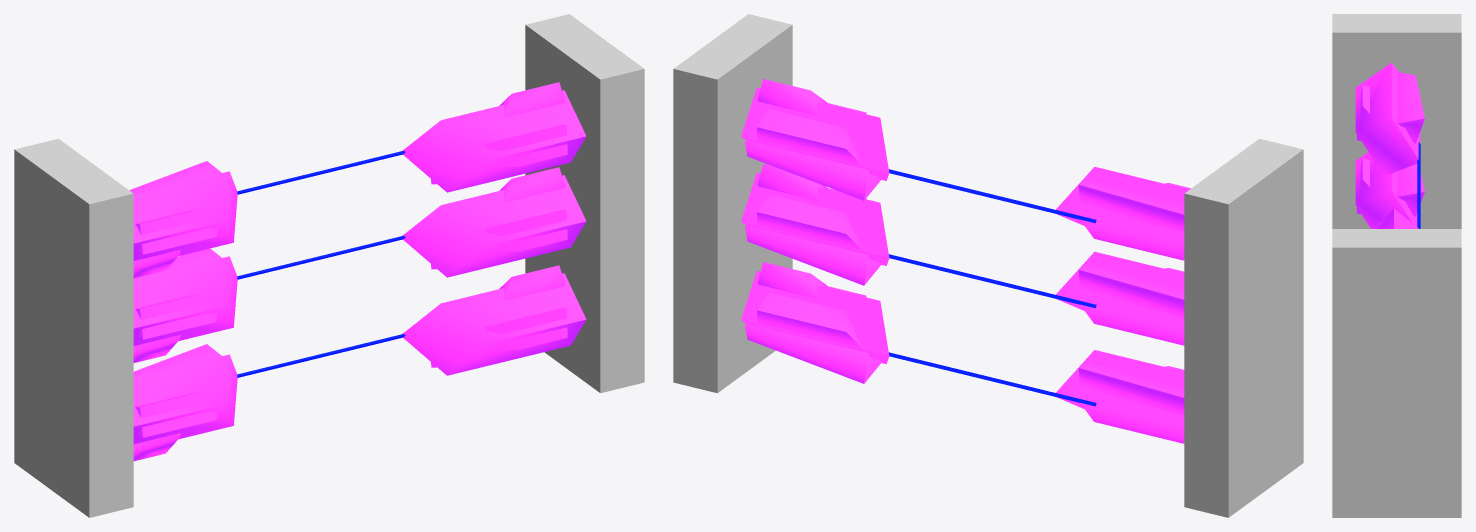
File: Crystal Laser Grid.fbx
3 views of the same model, side by side, from view 1: azimuth 30°, elevation 25°; view 2: azimuth 150°, elevation 25°; view 3: azimuth 270°, elevation 25° (orthographic). The views are drawn at different scales.
Parts seen in each view (by area): view 1: wall_reference_2, wall_reference, Crystal_2_2, Crystal_2, Crystal_2_3, Crystal_1_3, Crystal_1_2, Crystal_1, Cube_3_5, Cube_3_3, Cube_3, Cube_3_4 (+13 smaller); view 2: wall_reference_2, wall_reference, Crystal_2_2, Crystal_2_3, Crystal_2, Cube_4_5, Cube_4_3, Cube_4, Cube_2_3, Cube_2_7, Cube_2_5, Cube_4_2 (+14 smaller); view 3: wall_reference, wall_reference_2, Crystal_1_2, Crystal_1, Cube_4_3, Cube_4, Crystal_2_2, Cube_1_3, Cube_3_3, Cube_3.
Part boxes in pixels (x1=…): wall_reference_2: x1=14, y1=138, x2=133, y2=517; wall_reference: x1=525, y1=14, x2=644, y2=393; Crystal_2_2: x1=402, y1=90, x2=586, y2=192; Crystal_2: x1=402, y1=175, x2=586, y2=277; Crystal_2_3: x1=403, y1=273, x2=586, y2=375; Crystal_1_3: x1=133, y1=354, x2=237, y2=444; Crystal_1_2: x1=133, y1=171, x2=237, y2=260; Crystal_1: x1=133, y1=256, x2=237, y2=345; Cube_3_5: x1=135, y1=391, x2=217, y2=437; Cube_3_3: x1=135, y1=208, x2=217, y2=254; Cube_3: x1=135, y1=293, x2=217, y2=339; Cube_3_4: x1=484, y1=125, x2=567, y2=166; wall_reference_2: x1=1184, y1=138, x2=1303, y2=517; wall_reference: x1=673, y1=14, x2=792, y2=393; Crystal_2_2: x1=741, y1=87, x2=889, y2=180; Crystal_2_3: x1=741, y1=271, x2=889, y2=364; Crystal_2: x1=741, y1=172, x2=889, y2=265; Cube_4_5: x1=1078, y1=359, x2=1184, y2=415; Cube_4_3: x1=1078, y1=176, x2=1184, y2=232; Cube_4: x1=1078, y1=261, x2=1184, y2=317; Cube_2_3: x1=757, y1=194, x2=862, y2=250; Cube_2_7: x1=757, y1=292, x2=862, y2=348; Cube_2_5: x1=757, y1=109, x2=862, y2=165; Cube_4_2: x1=745, y1=225, x2=882, y2=285; wall_reference: x1=1332, y1=229, x2=1461, y2=517; wall_reference_2: x1=1332, y1=14, x2=1461, y2=228; Crystal_1_2: x1=1355, y1=63, x2=1420, y2=176; Crystal_1: x1=1355, y1=152, x2=1417, y2=228; Cube_4_3: x1=1397, y1=72, x2=1424, y2=143; Cube_4: x1=1397, y1=163, x2=1424, y2=216; Crystal_2_2: x1=1373, y1=209, x2=1418, y2=228; Cube_1_3: x1=1417, y1=142, x2=1420, y2=228; Cube_3_3: x1=1357, y1=85, x2=1369, y2=140; Cube_3: x1=1357, y1=158, x2=1369, y2=213.
Bounding box in the file's own units: 855 × 461 × 200.
